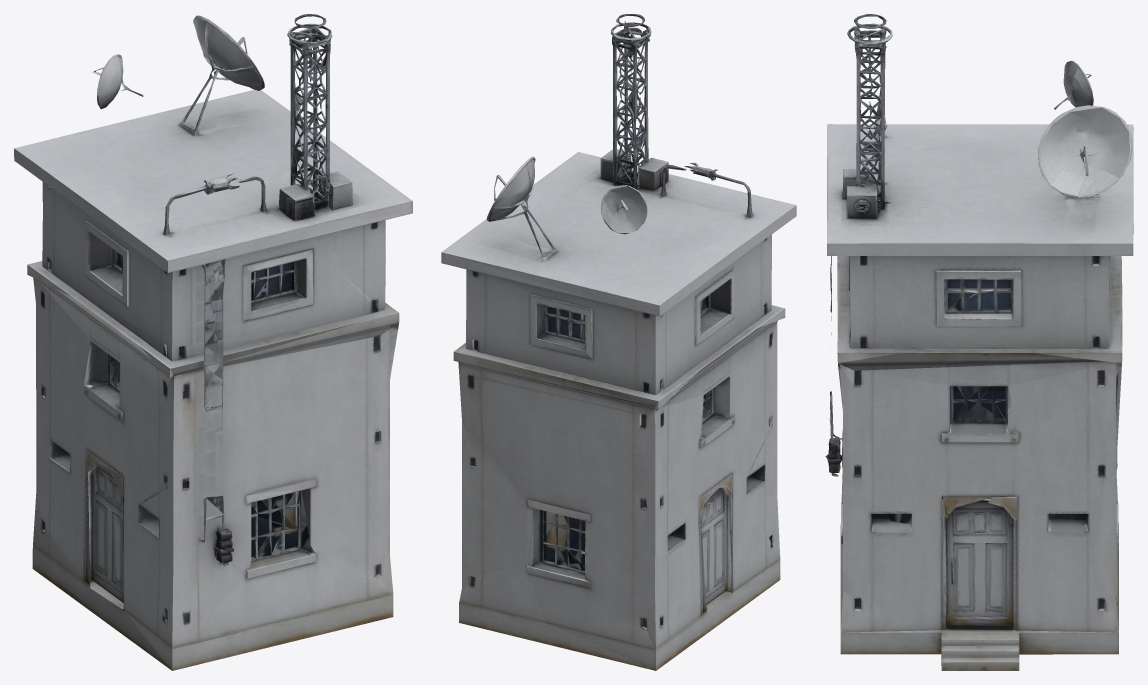
Rendered from relay.glb.
The picture shows the model from 3 angles, left to right: view 1: azimuth 30°, elevation 25°; view 2: azimuth 150°, elevation 25°; view 3: azimuth 270°, elevation 25°; orthographic projection. The views are drawn at different scales.
Visible parts, largest first — view 1: wall, roof; view 2: wall, roof; view 3: wall, roof.
Boxes of the visible parts, box(x1,y1,x2,y2) form: wall: box(14, 14, 412, 670); roof: box(14, 14, 412, 311); wall: box(441, 14, 796, 670); roof: box(442, 14, 796, 350); wall: box(825, 14, 1133, 670); roof: box(827, 14, 1133, 319).
Bounding box in the file's own units: 4.63 × 10 × 4.65.
1 material, 1 textured.
